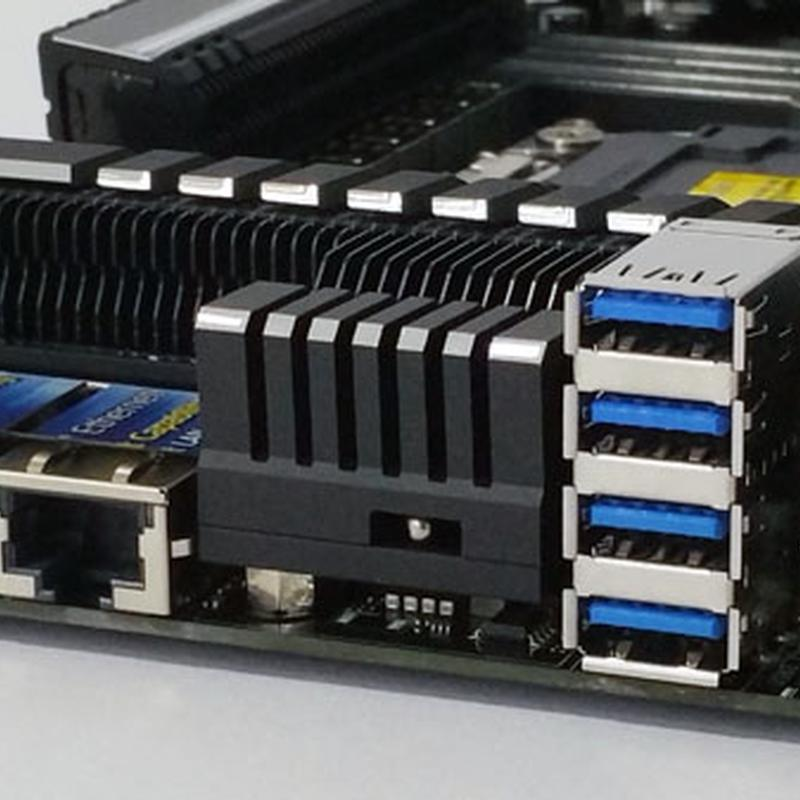ETHERNET: (0, 472, 181, 623)
USB: (553, 589, 766, 691), (558, 481, 762, 583), (560, 373, 751, 474), (552, 269, 748, 366)
